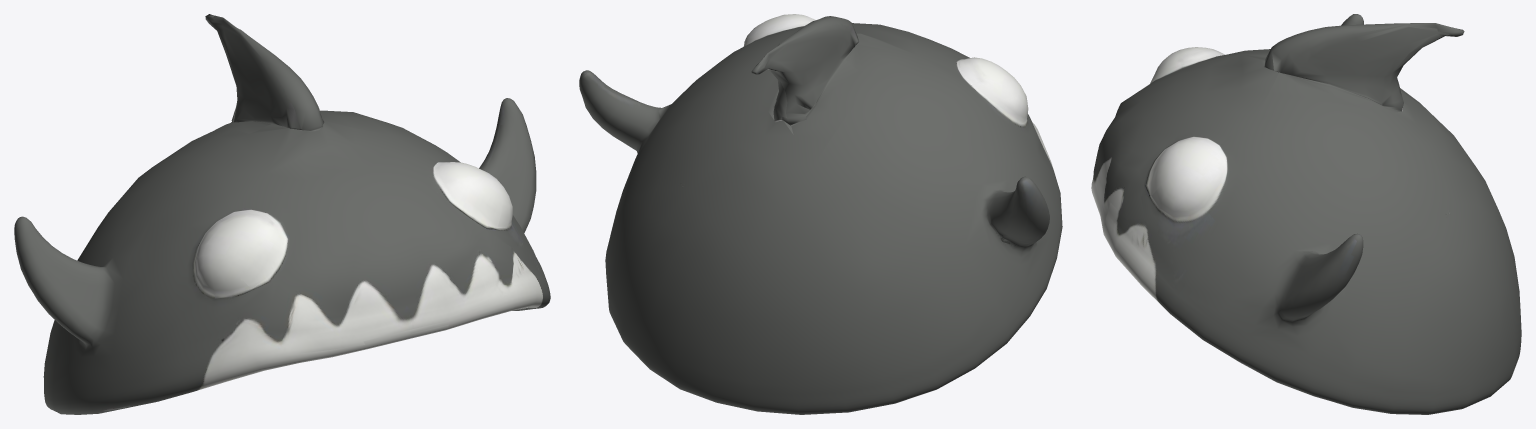
Rendered from Shark.glb.
The picture shows the model from 3 angles, left to right: view 1: azimuth 30°, elevation 25°; view 2: azimuth 150°, elevation 25°; view 3: azimuth 270°, elevation 25°; orthographic projection. The views are drawn at different scales.
Parts seen in each view (by area): view 1: Shark; view 2: Shark; view 3: Shark.
Part boxes in pixels (x1=…): Shark: x1=14, y1=14, x2=550, y2=414; Shark: x1=579, y1=14, x2=1062, y2=414; Shark: x1=1091, y1=14, x2=1521, y2=414.
Bounding box in the file's own units: 0.5068 × 0.3454 × 0.4009.
Materials: 1 (1 with a texture image).
